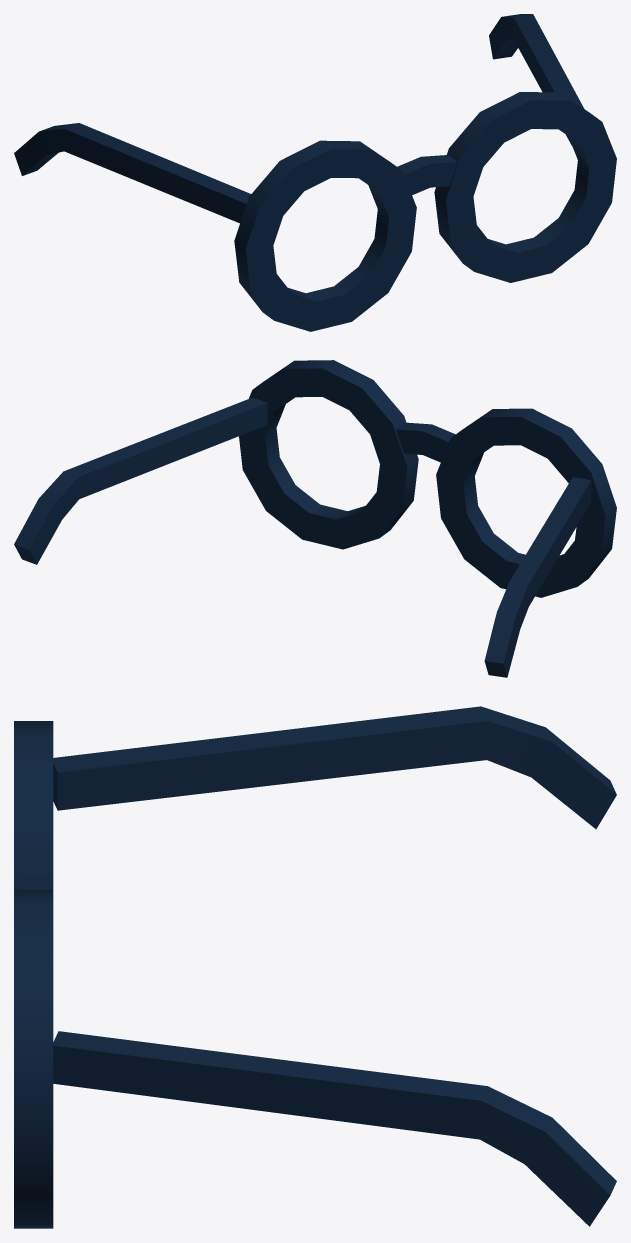
The model's file is Glasses_03.fbx.
The picture shows the model from 3 angles, top to bottom: view 1: azimuth 30°, elevation 25°; view 2: azimuth 150°, elevation 25°; view 3: azimuth 270°, elevation 25°; orthographic projection. The views are drawn at different scales.
Visible parts, largest first — view 1: Glasses_03.c, Glasses_stick_19, Glasses_stick_17; view 2: Glasses_03.c, Glasses_stick_17, Glasses_stick_19; view 3: Glasses_stick_17, Glasses_stick_19, Glasses_03.c.
Part boxes in pixels (box(x1,y1,x2,y2)): Glasses_03.c: box(234, 92, 616, 331); Glasses_stick_19: box(14, 123, 250, 223); Glasses_stick_17: box(489, 14, 584, 145); Glasses_03.c: box(239, 360, 616, 597); Glasses_stick_17: box(14, 397, 267, 564); Glasses_stick_19: box(484, 477, 591, 677); Glasses_stick_17: box(53, 1031, 616, 1226); Glasses_stick_19: box(53, 706, 616, 829); Glasses_03.c: box(14, 721, 53, 1228).
Size of the model in its own units: 0.719 by 0.2473 by 0.4414.
